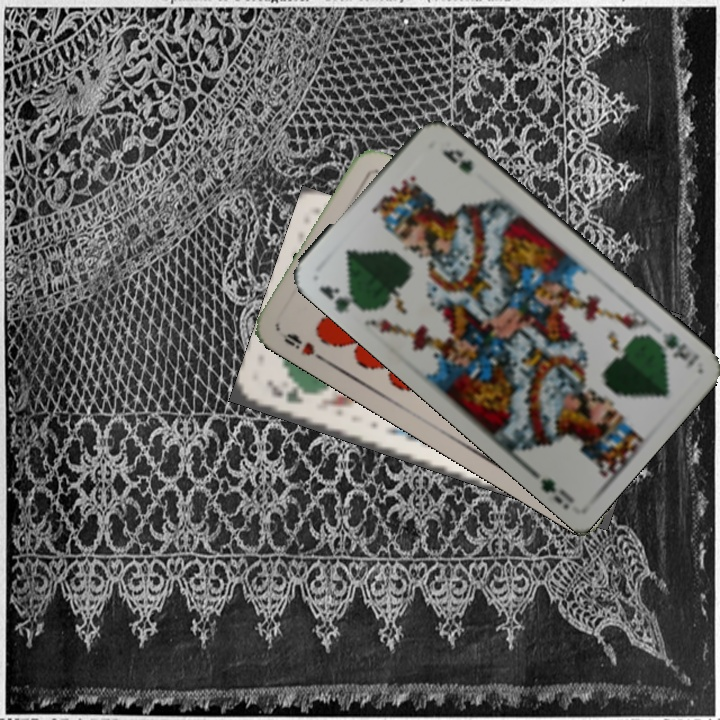GK: (646, 328, 702, 372), (314, 281, 362, 316), (269, 382, 306, 407)
H9: (277, 327, 329, 365)
